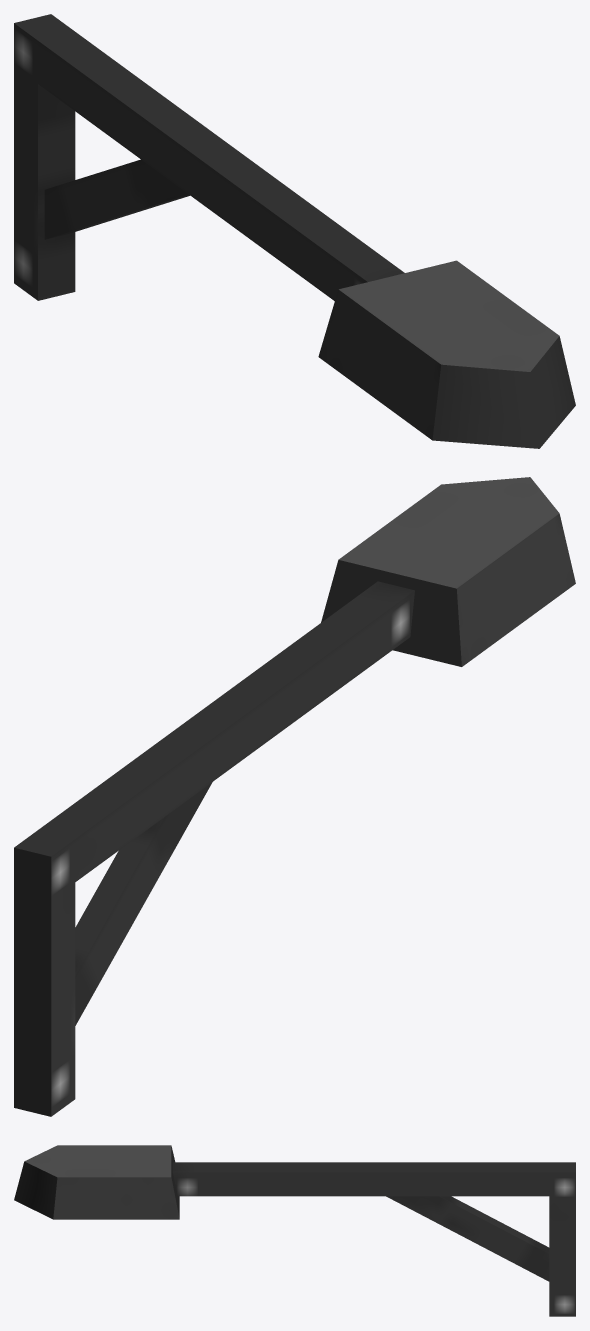
The model's file is Street_Light_001_J.FBX.
3 views of the same model, one above another, from view 1: azimuth 30°, elevation 25°; view 2: azimuth 150°, elevation 25°; view 3: azimuth 270°, elevation 25° (orthographic). The views are drawn at different scales.
Parts seen in each view (by area): view 1: Street_Light_001_J; view 2: Street_Light_001_J; view 3: Street_Light_001_J.
Part boxes in pixels (x1=…): Street_Light_001_J: x1=14, y1=14, x2=575, y2=448; Street_Light_001_J: x1=14, y1=477, x2=575, y2=1116; Street_Light_001_J: x1=14, y1=1145, x2=575, y2=1316.
Bounding box in the file's own units: 16.17 × 98.94 × 29.17.
